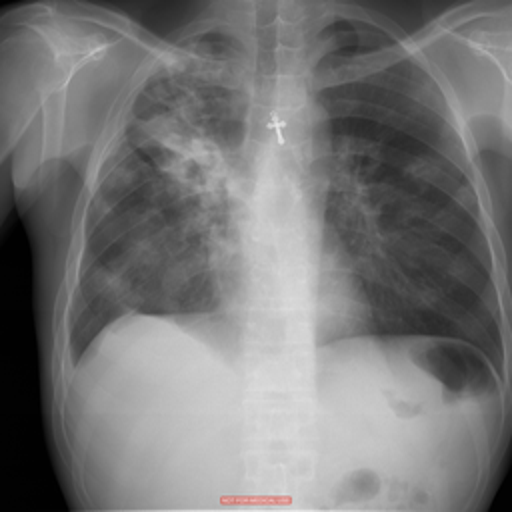TB: (147, 104, 219, 207)
